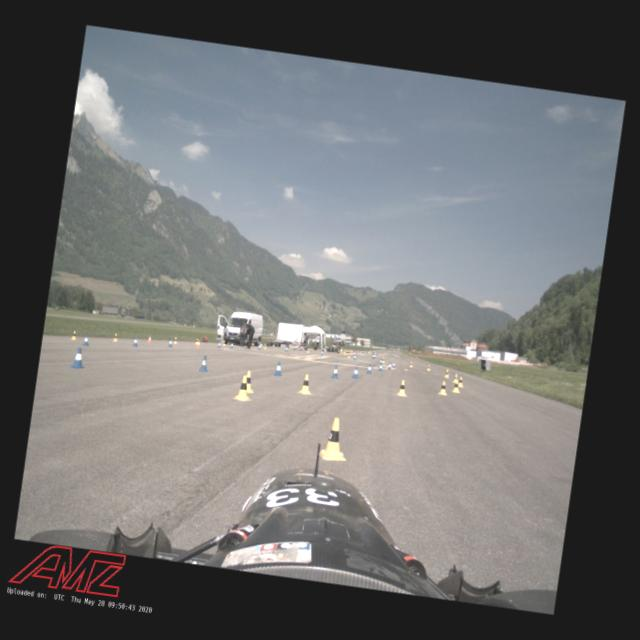blue_cone: (71, 347, 87, 370), (199, 354, 210, 372), (274, 361, 284, 376), (332, 365, 341, 379), (82, 334, 91, 346), (352, 366, 360, 378), (132, 336, 140, 346), (366, 364, 373, 374), (168, 338, 174, 348), (378, 364, 384, 372), (388, 362, 392, 370), (392, 361, 396, 368), (379, 359, 383, 366), (218, 341, 222, 348), (230, 342, 234, 349), (284, 346, 288, 352), (353, 354, 357, 360), (374, 353, 378, 358), (258, 344, 261, 350), (321, 350, 324, 356), (372, 353, 375, 359), (373, 354, 376, 358)
orange_cone: (146, 335, 152, 344), (196, 340, 202, 348)
yellow_cone: (318, 416, 351, 464), (233, 374, 254, 402), (239, 370, 257, 394), (298, 374, 314, 396), (396, 378, 409, 398), (438, 380, 450, 396), (452, 381, 462, 394), (457, 376, 465, 388), (70, 330, 78, 341), (112, 333, 119, 342), (452, 374, 458, 383), (444, 368, 450, 376), (173, 336, 178, 344), (444, 371, 449, 378), (427, 365, 431, 371), (409, 362, 413, 368), (382, 358, 386, 363), (264, 344, 268, 349), (306, 348, 310, 352), (223, 341, 226, 346), (348, 353, 351, 358), (196, 338, 198, 344)
